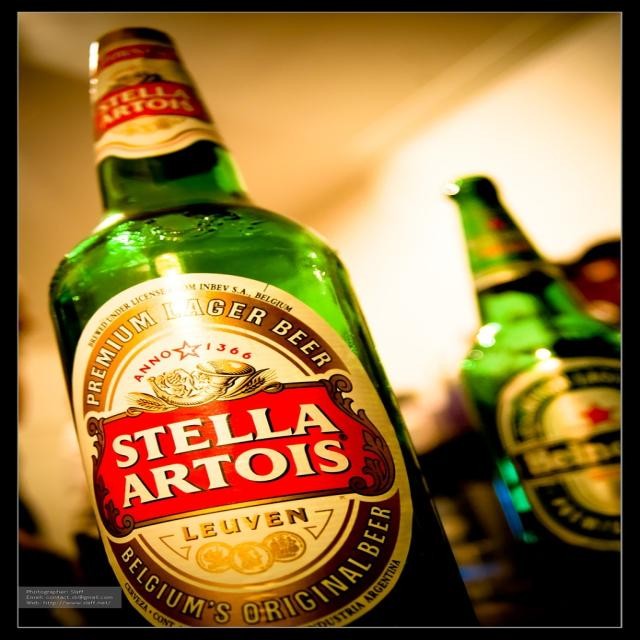stellaartois: (71, 273, 414, 629)
